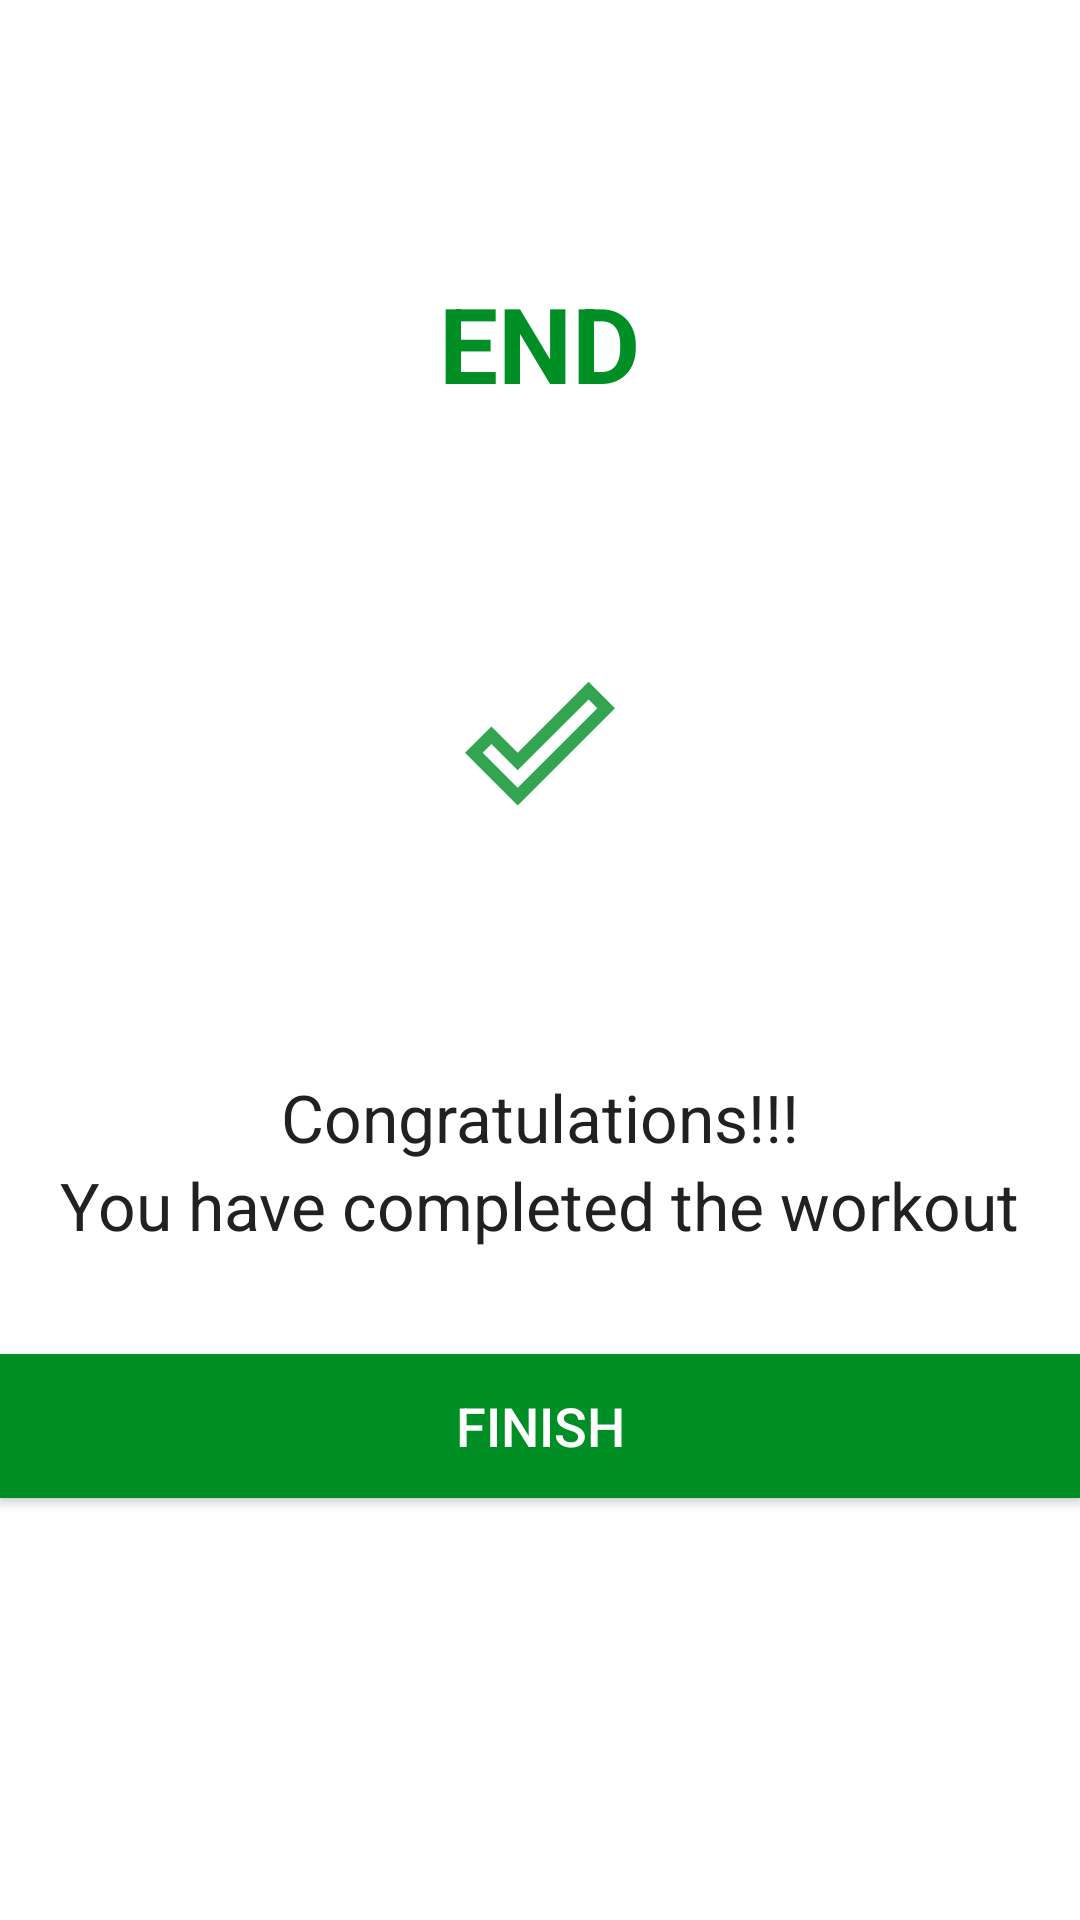

Screen size 1080px x 1920px. Icon name, then its center in pixels as [x,y]:
done: [540,744]
